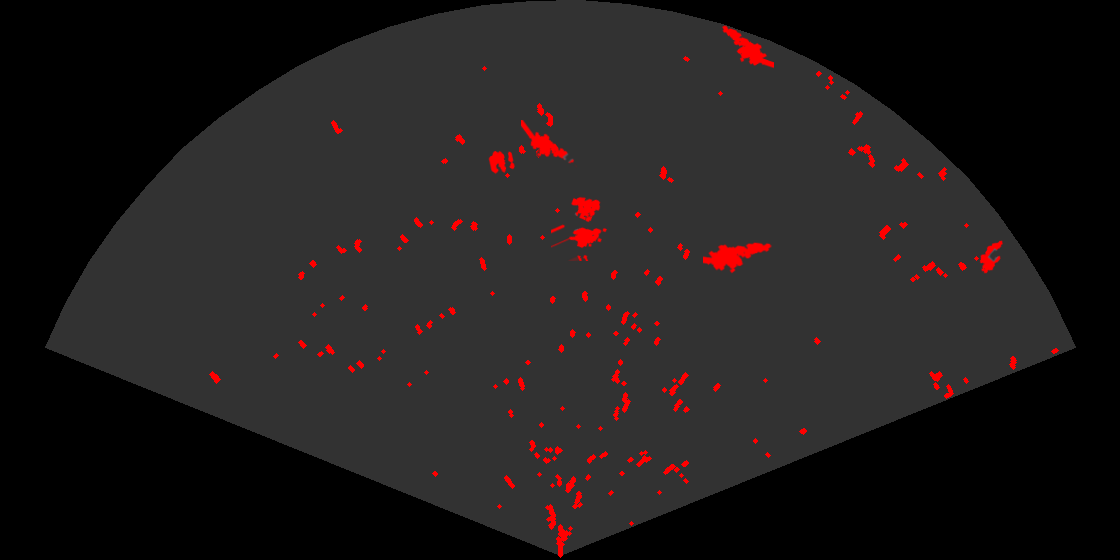AUV: (978, 239, 1005, 275)
ball: (487, 149, 516, 176)
cage: (551, 195, 609, 261)
frogman: (521, 120, 577, 169), (720, 24, 774, 70), (703, 241, 772, 275)
